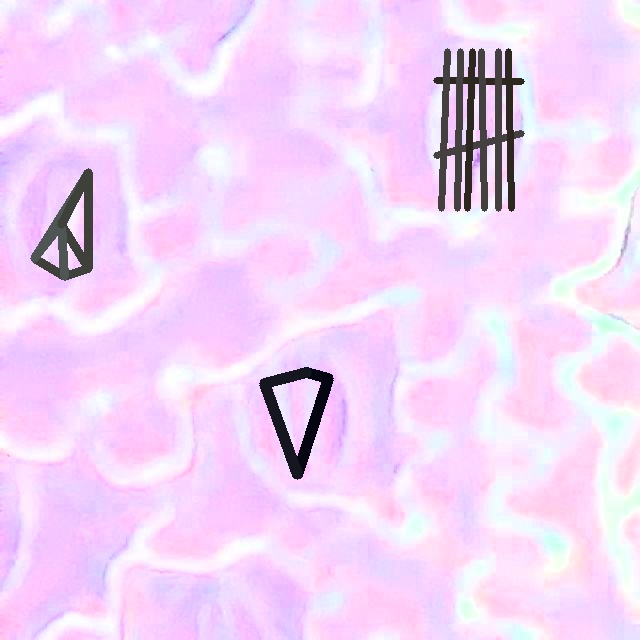open: (433, 48, 524, 211), (259, 368, 332, 479), (31, 169, 91, 279)
